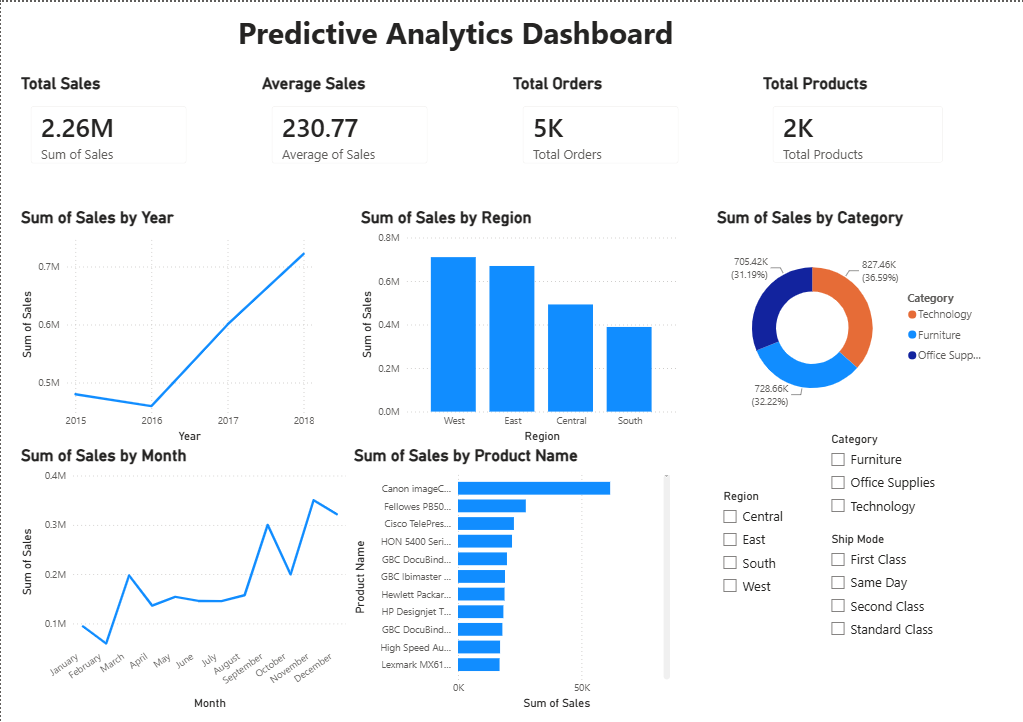

This screenshot's page, from the dashboard's own definition file:
{"tool":"powerbi","page":{"name":"Page 1","canvas":[1280,900],"ordinal":0},"visuals":[{"type":"textbox","box":[20,7.3,1096.4,64.5],"z":0},{"type":"cardVisual","title":"Total Sales","fields":{"Data":["Sum(train.Sales)"]},"box":[20,90,230,129.1],"z":1000},{"type":"cardVisual","title":"Total Orders","fields":{"Data":["train.Total Orders"]},"box":[635.5,90,230,129.1],"z":2000},{"type":"cardVisual","title":"Average Sales","fields":{"Data":["Avg(train.Sales)"]},"box":[321.8,90,230,129.1],"z":3000},{"type":"cardVisual","title":"Total Products","fields":{"Data":["train.Total Products"]},"box":[947.5,90,247.5,128.8],"z":4000},{"type":"lineChart","fields":{"Category":["train.Order Date.Variation.Date Hierarchy.Year","train.Order Date.Variation.Date Hierarchy.Quarter","train.Order Date.Variation.Date Hierarchy.Month","train.Order Date.Variation.Date Hierarchy.Day"],"Y":["Sum(train.Sales)"]},"box":[20,257.5,376.2,297.5],"z":4001},{"type":"lineChart","fields":{"Category":["train.Order Date.Variation.Date Hierarchy.Month"],"Y":["Sum(train.Sales)"]},"box":[20,555,416.2,333.8],"z":4002},{"type":"clusteredColumnChart","fields":{"Category":["train.Region"],"Y":["Sum(train.Sales)"]},"box":[445,257.5,405,297.5],"z":4003},{"type":"barChart","fields":{"Category":["train.Product Name"],"Y":["Sum(train.Sales)"]},"box":[436.2,555,405,333.8],"z":4004},{"type":"donutChart","fields":{"Category":["train.Category"],"Y":["Sum(train.Sales)"]},"box":[890,257.5,351.2,276.2],"z":4005},{"type":"slicer","fields":{"Values":["train.Region"]},"box":[890,605,126.2,162.5],"z":4006},{"type":"slicer","fields":{"Values":["train.Category"]},"box":[1025,533.8,152.5,125],"z":4007},{"type":"slicer","fields":{"Values":["train.Ship Mode"]},"box":[1025,658.8,196.2,143.8],"z":4008}]}

Visuals, with their boxes in screenshot pixels (x1, y1, x2, y2), scaled from the page's 1280x900 canvas onto the 1023x722 screenshot:
textbox: region(16, 6, 892, 58)
"Total Sales" cardVisual: region(16, 72, 200, 176)
"Total Orders" cardVisual: region(508, 72, 692, 176)
"Average Sales" cardVisual: region(257, 72, 441, 176)
"Total Products" cardVisual: region(757, 72, 955, 176)
lineChart - train.Order Date.Variation.Date Hierarchy.Year x train.Order Date.Variation.Date Hierarchy.Quarter: region(16, 207, 317, 445)
lineChart - train.Order Date.Variation.Date Hierarchy.Month x Sum(train.Sales): region(16, 445, 349, 713)
clusteredColumnChart - train.Region x Sum(train.Sales): region(356, 207, 679, 445)
barChart - train.Product Name x Sum(train.Sales): region(349, 445, 672, 713)
donutChart - train.Category x Sum(train.Sales): region(711, 207, 992, 428)
slicer - train.Region: region(711, 485, 812, 616)
slicer - train.Category: region(819, 428, 941, 529)
slicer - train.Ship Mode: region(819, 529, 976, 644)
